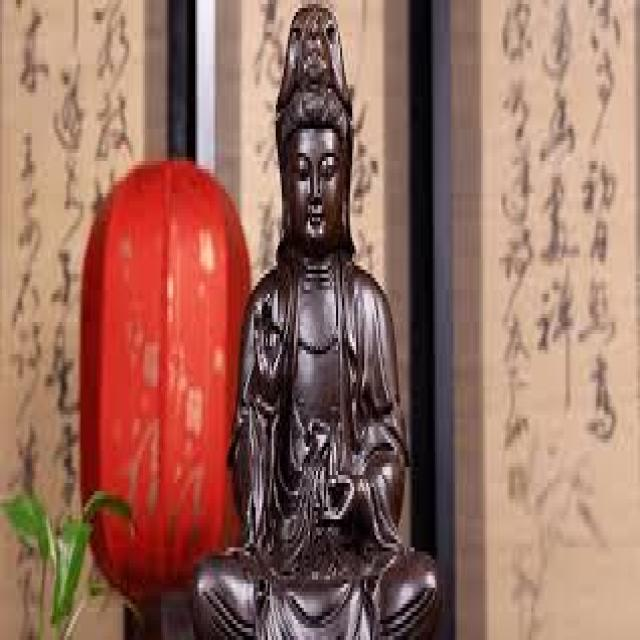Guan Yin: (240, 4, 396, 487)
